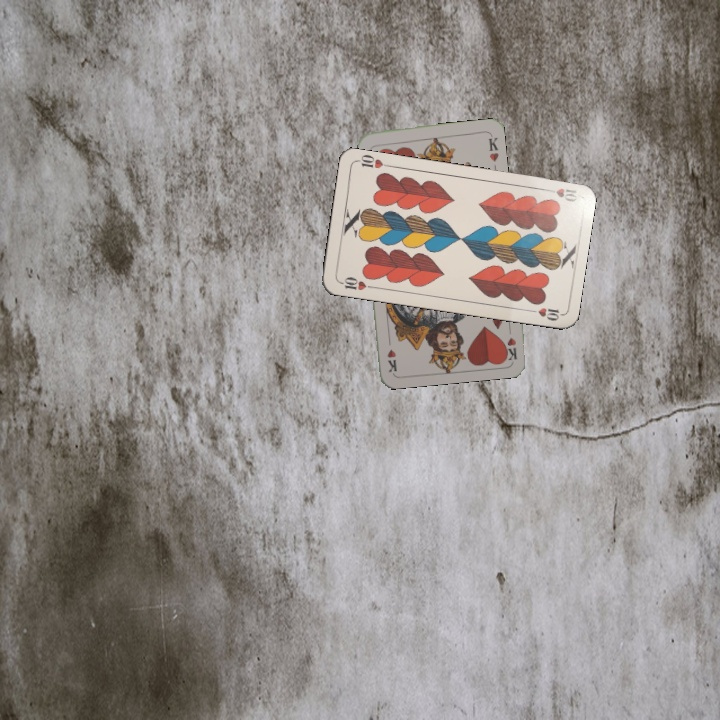H10: (336, 273, 376, 293), (540, 184, 580, 204)
HK: (500, 321, 520, 362)
